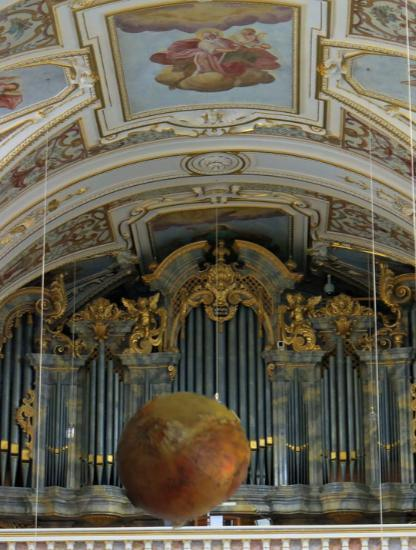Onion: (113, 387, 250, 524)
